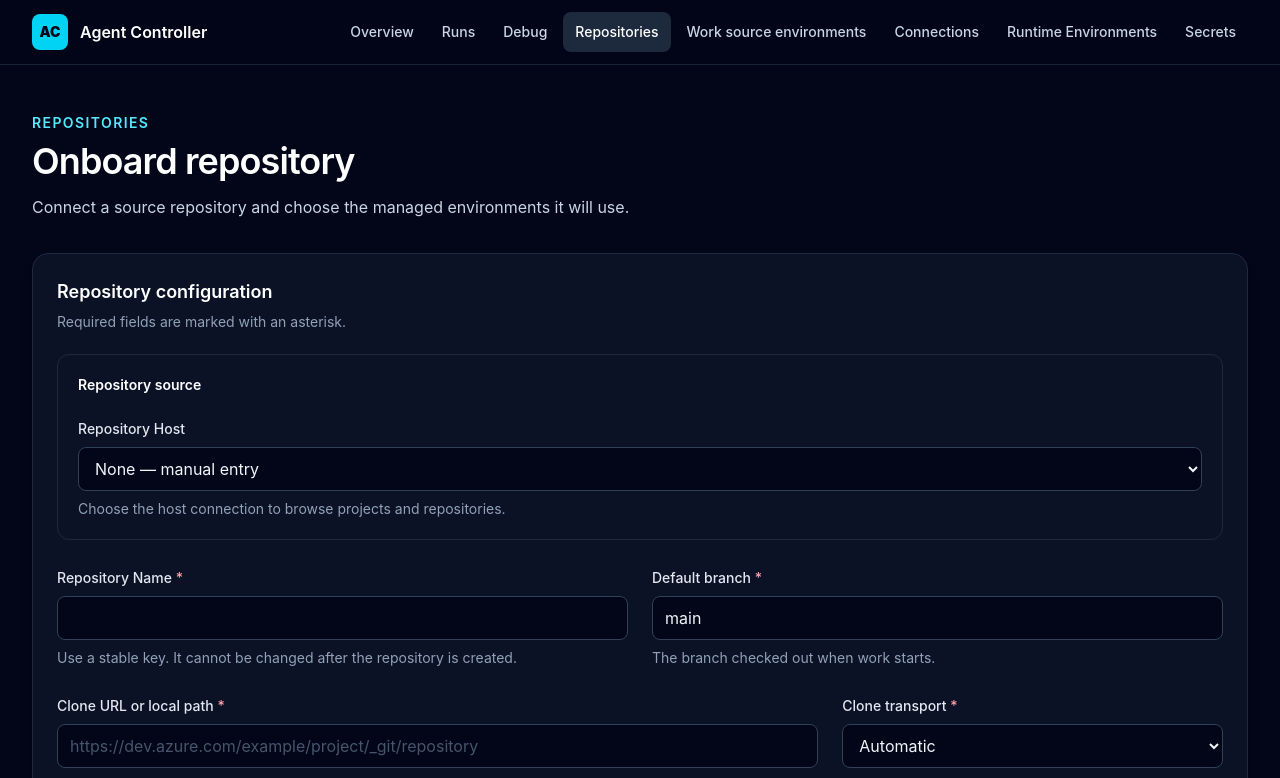
Test case: repository onboarding screens › requires an SSH key when the clone URL resolves to SSH
The width and height of the screenshot is (1280, 778).
Type "new.repo" into the field labelled "Repository Name *". click: [342, 618]
box: [57,596,628,640]
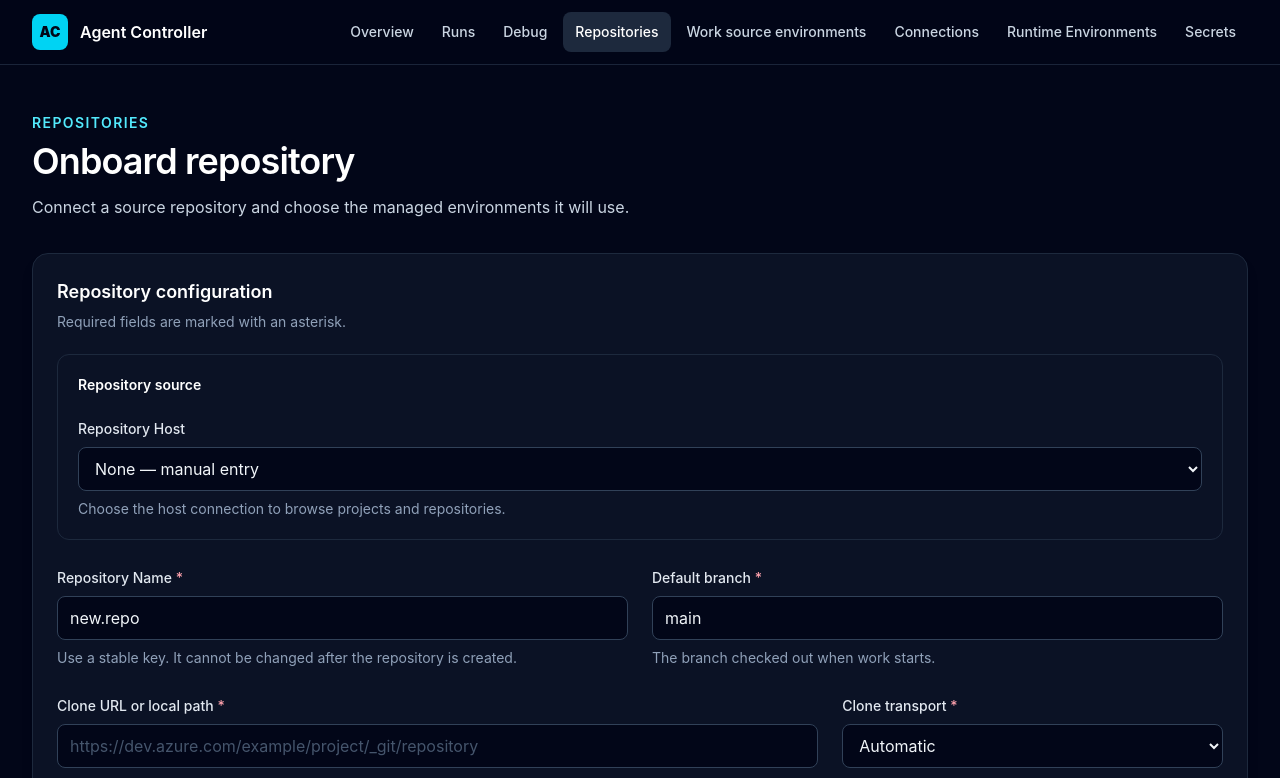
Type "ssh://git@example.test/owner/new.repo.git" into the field labelled "Clone URL or local path *". click: [438, 746]
box: [57,724,818,768]
(page scrolled)
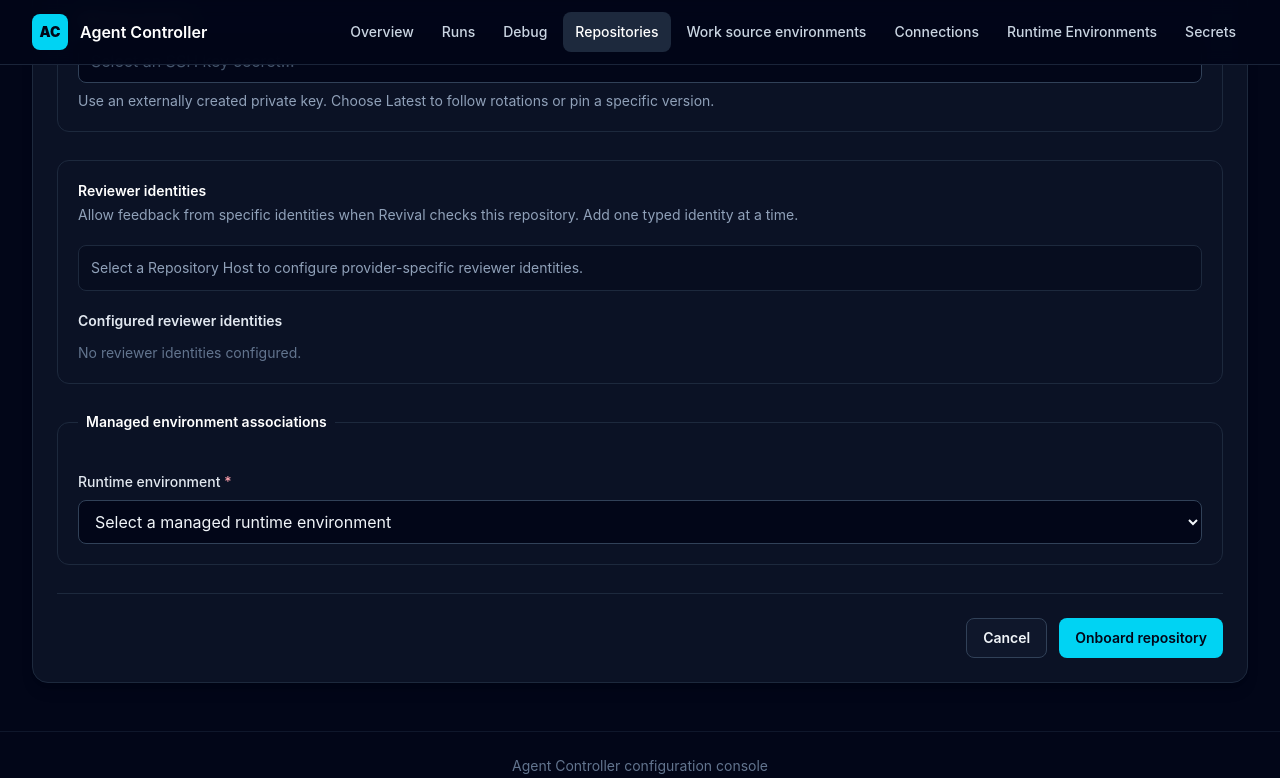
Select "Primary runtime — runtime-main" in the dropdown labelled "Runtime environment *". click: [640, 522]
box: [78,500,1202,544]
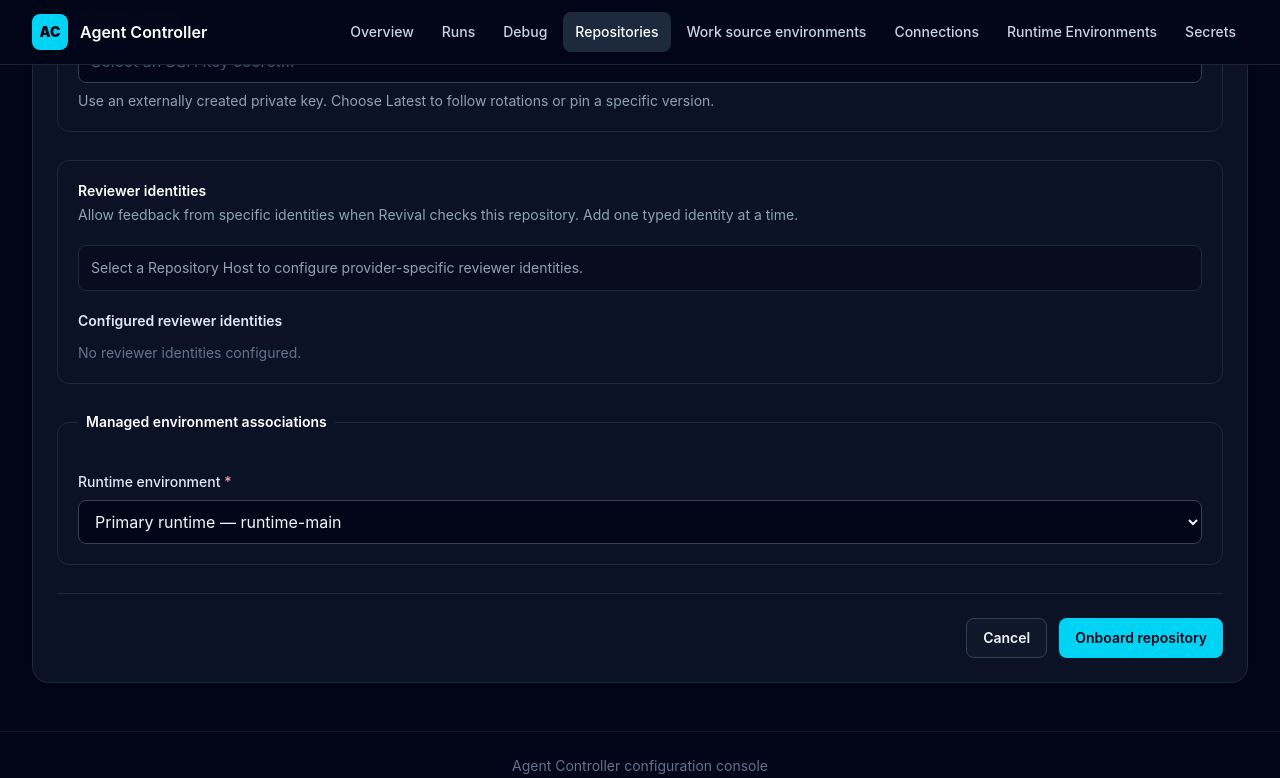
Result: the button labelled "Select an SSH key secret…" is shown at [78,39,1202,83]
Click the button "Onboard repository". click: [1141, 638]
box: [1059,618,1223,658]
(page scrolled)
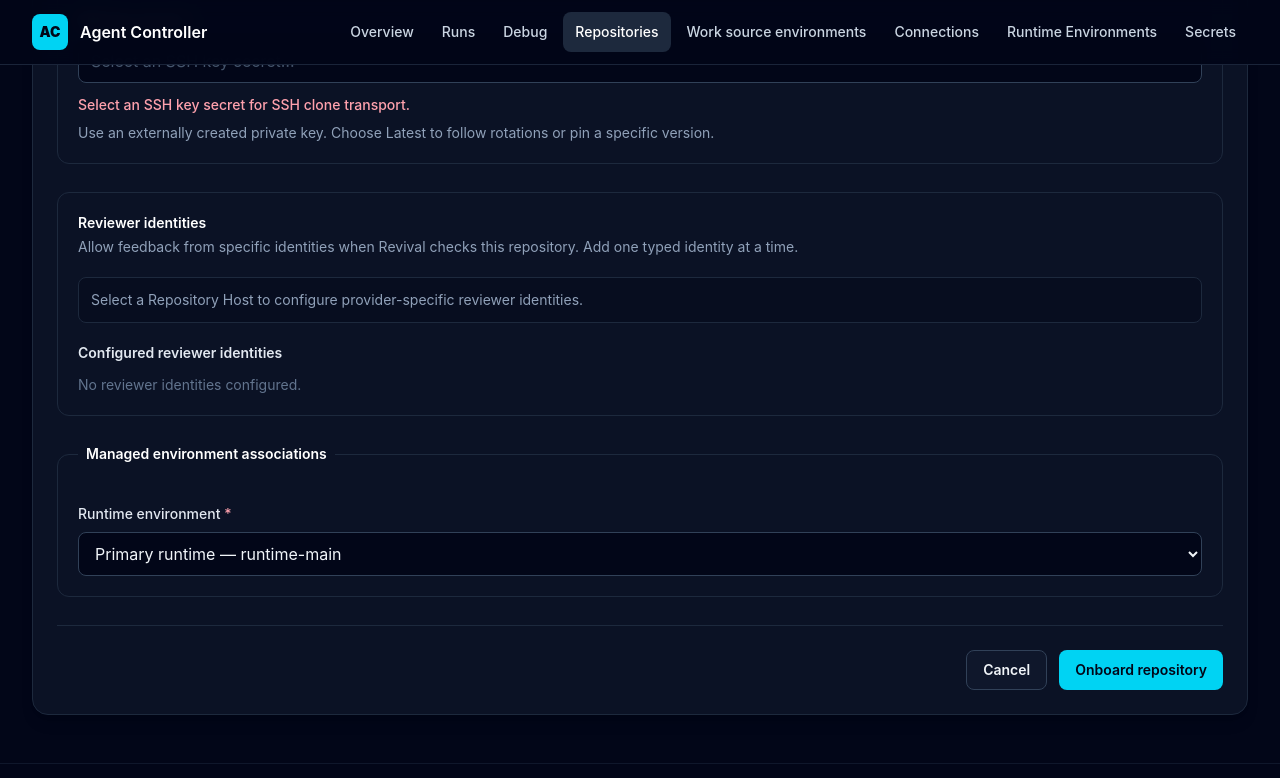
Result: the text "Select an SSH key secret for SSH clone transport." is shown at [78,96,410,113]
